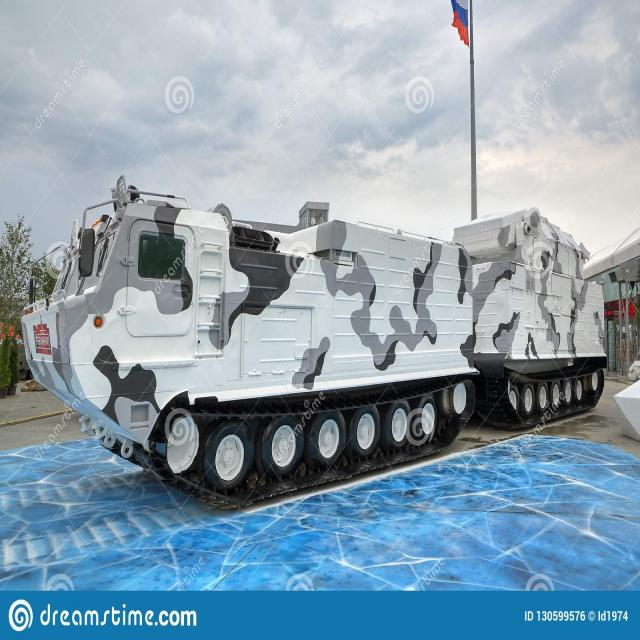MIL_EW_RDR: (28, 188, 606, 498)
